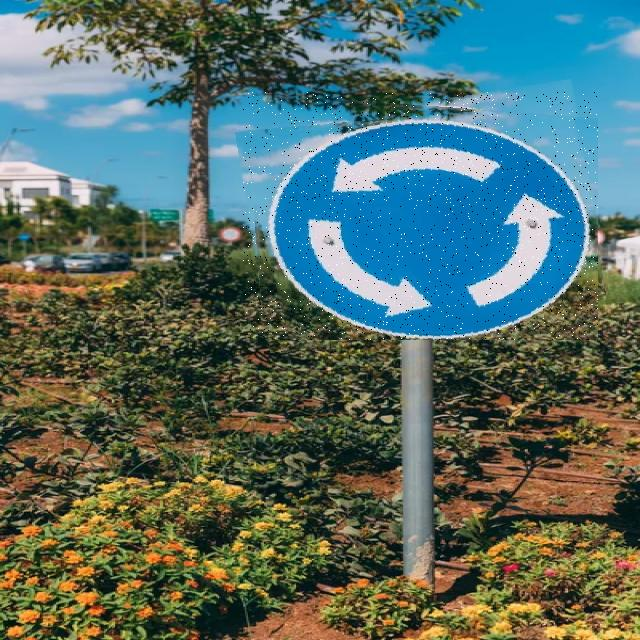roundabout: (243, 92, 598, 340)
